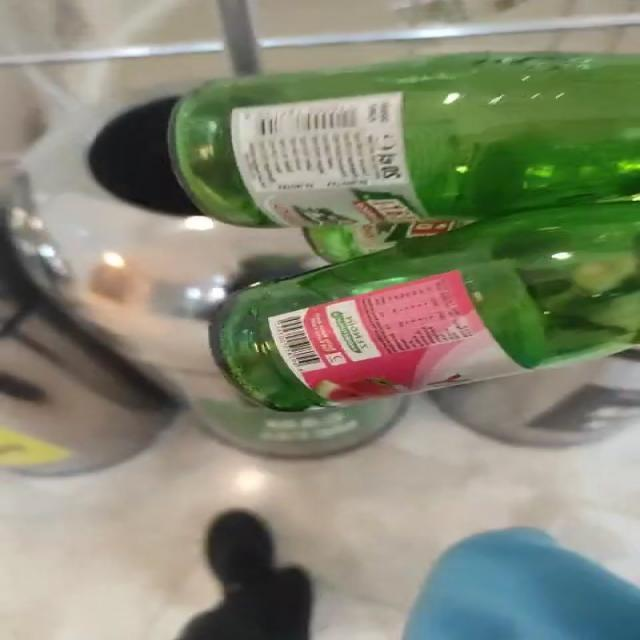Glass: (171, 54, 637, 411)
